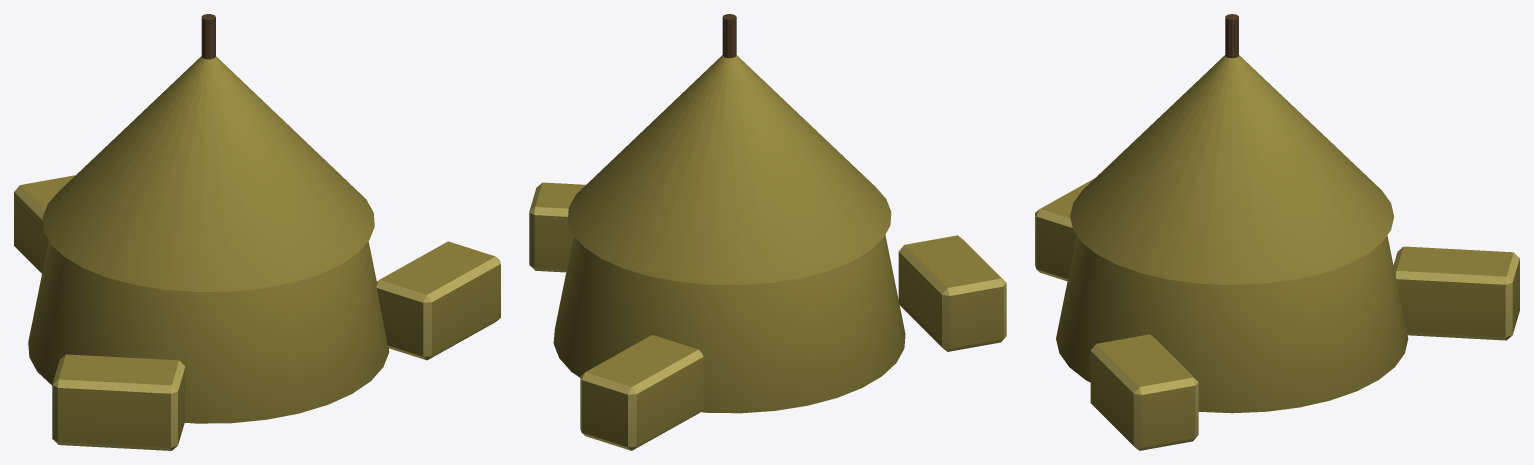
File: haystack-v1.lod1.glb
The picture shows the model from 3 angles, left to right: view 1: azimuth 30°, elevation 25°; view 2: azimuth 150°, elevation 25°; view 3: azimuth 270°, elevation 25°; orthographic projection. The views are drawn at different scales.
Parts seen in each view (by area): view 1: haystack-v1.lod1; view 2: haystack-v1.lod1; view 3: haystack-v1.lod1.
Boxes of the visible parts, bbox=[...] form: haystack-v1.lod1: bbox=[14, 14, 500, 450]; haystack-v1.lod1: bbox=[529, 14, 1006, 450]; haystack-v1.lod1: bbox=[1035, 14, 1519, 450].
Size of the model in its own units: 5.91 by 4.03 by 5.5.
